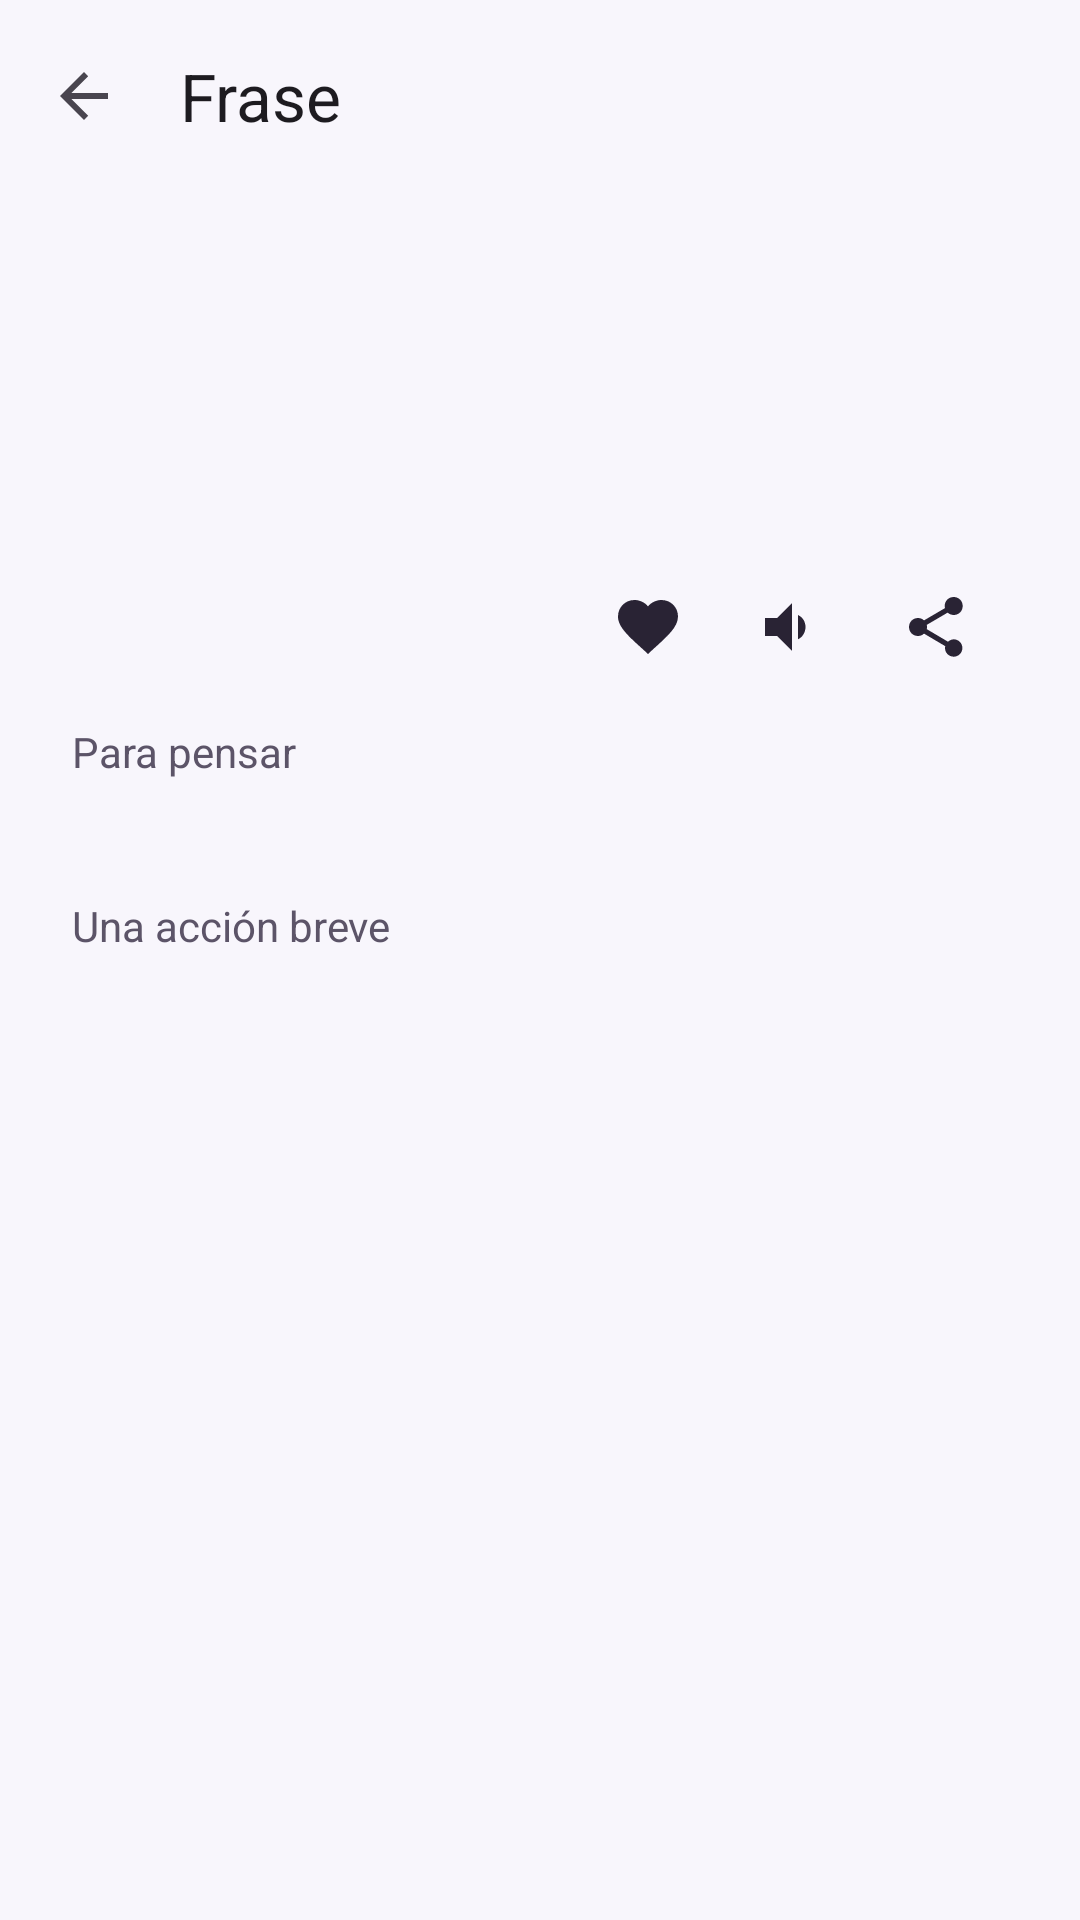

Named icons in this screenshot (1080×1920) and their bounding boxes, (x1, y1, x2, y2):
Compartir: (909, 597, 963, 657)
Escuchar frase: (765, 603, 806, 651)
Guardar en favoritos: (618, 600, 678, 654)
